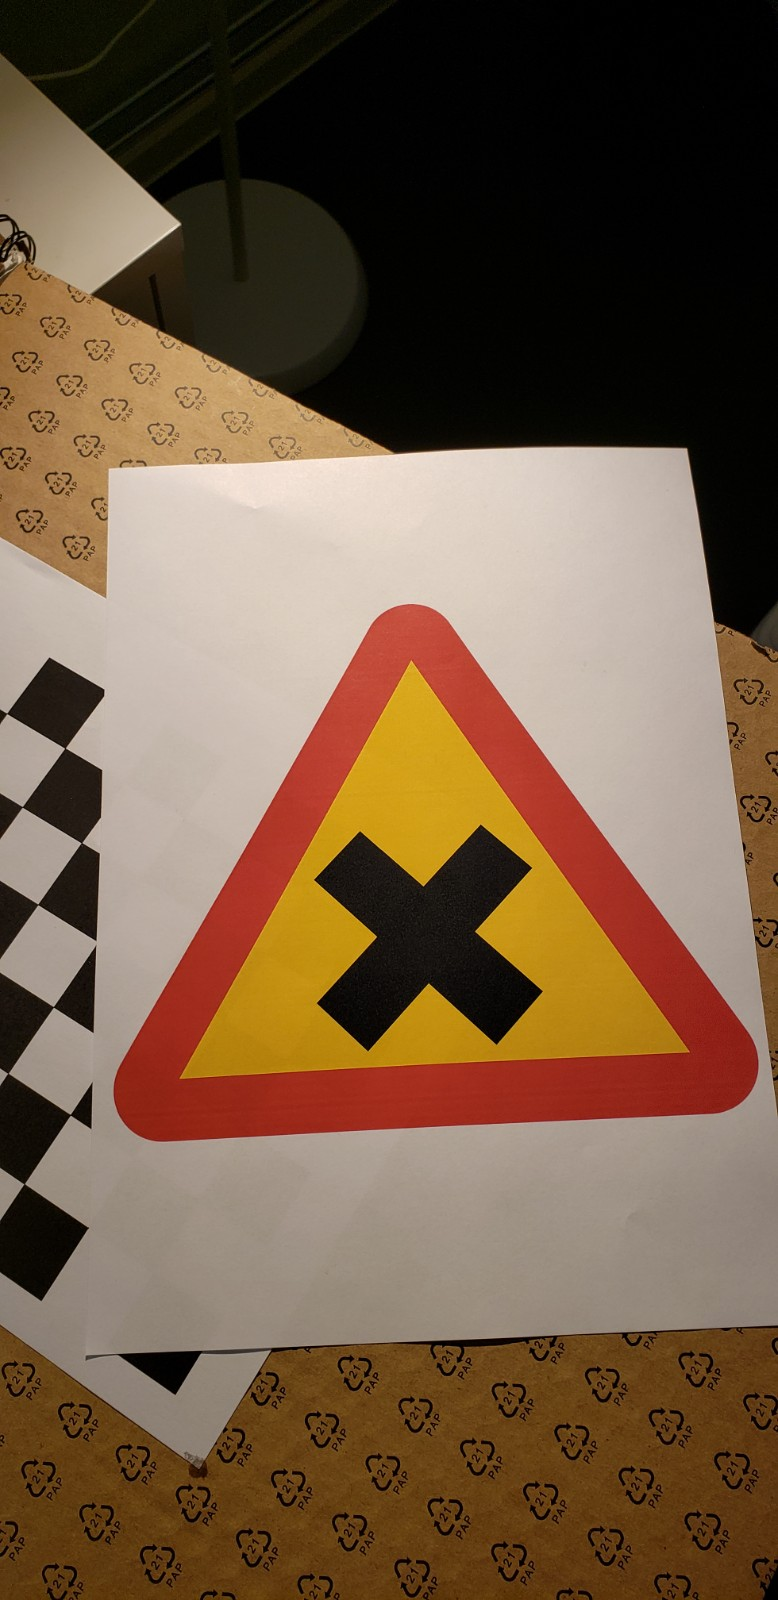junction: (139, 553, 756, 1182)
